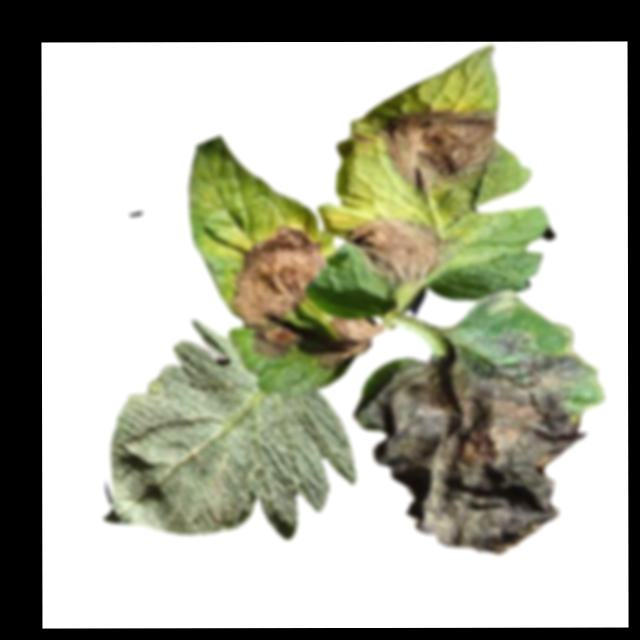Late_blight: (353, 326, 612, 554), (232, 218, 326, 358), (377, 107, 500, 195), (347, 215, 446, 289), (319, 314, 389, 370), (475, 290, 516, 317)
healthy: (109, 317, 358, 539)
